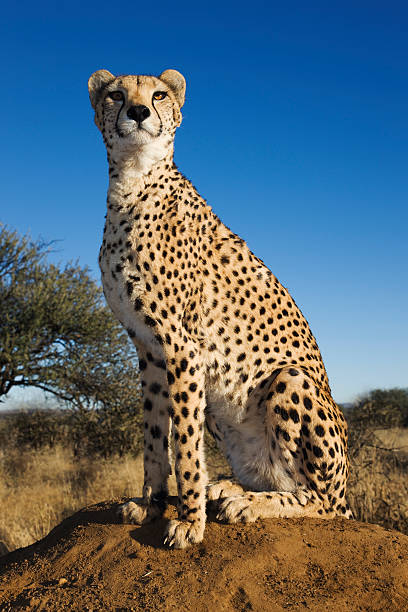cheetah: (84, 56, 214, 177)
